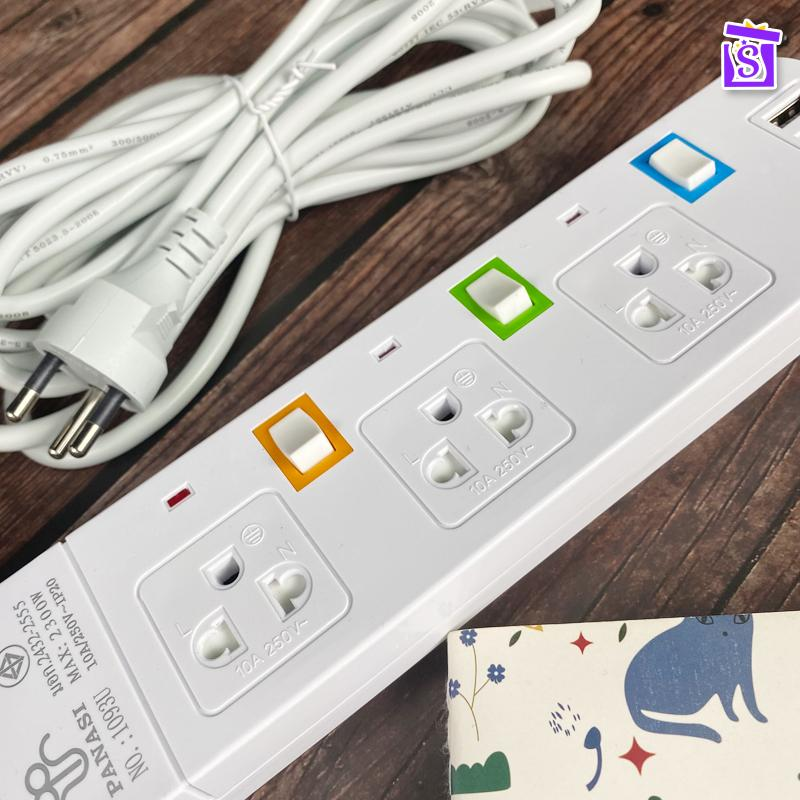Three_eye_plug: (1, 28, 800, 800)
